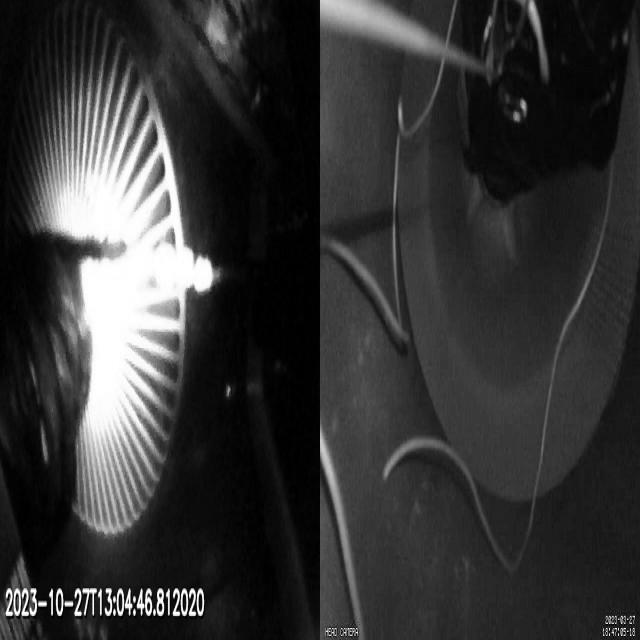white-dots: (156, 240, 212, 292)
